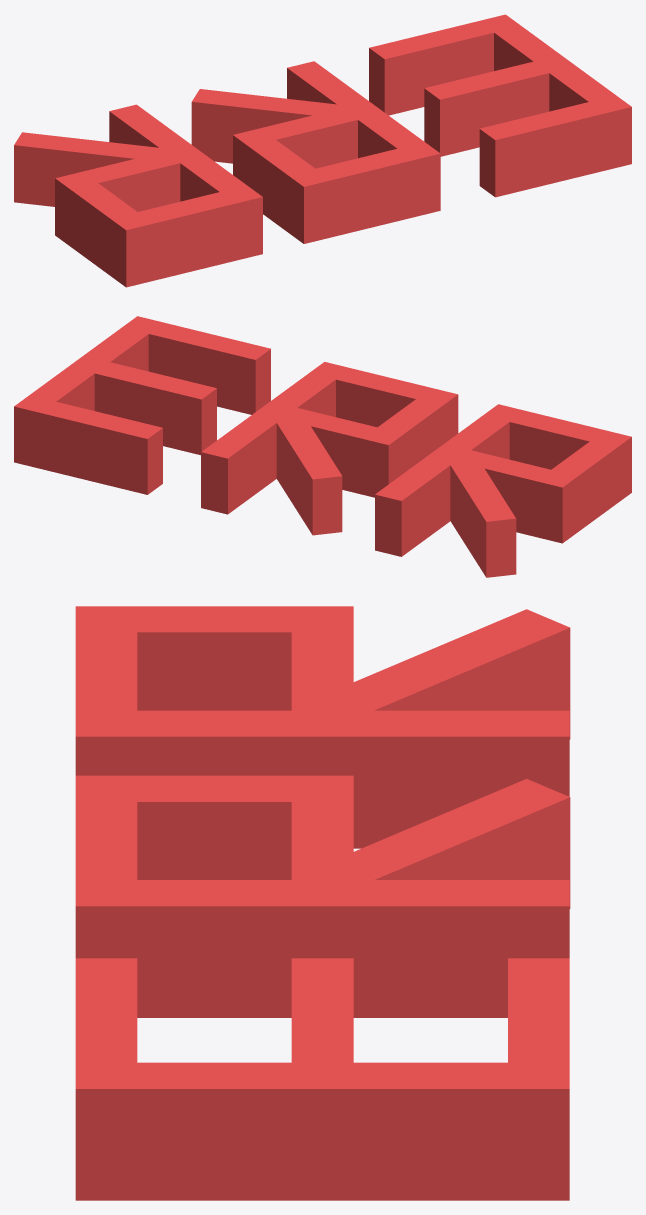
Rendered from planet_error.gltf.
3 views of the same model, one above another, from view 1: azimuth 30°, elevation 25°; view 2: azimuth 150°, elevation 25°; view 3: azimuth 270°, elevation 25° (orthographic). The views are drawn at different scales.
Parts seen in each view (by area): view 1: R, E; view 2: R, E; view 3: R, E.
Part boxes in pixels (x1=…): R: x1=14, y1=61, x2=440, y2=287; E: x1=369, y1=14, x2=631, y2=197; R: x1=201, y1=362, x2=631, y2=577; E: x1=14, y1=316, x2=270, y2=494; R: x1=75, y1=606, x2=570, y2=1017; E: x1=75, y1=958, x2=569, y2=1200.
Size of the model in its own units: 2.31 by 0.25 by 1.
Materials: 1 (1 with a texture image).
